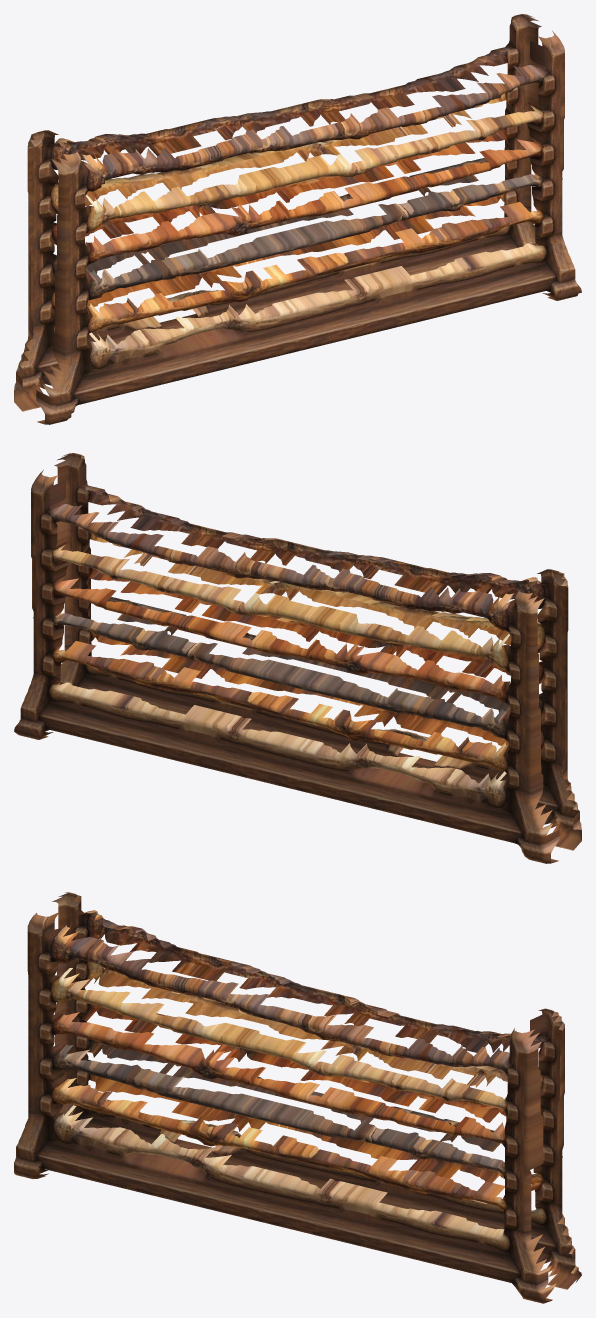
File: v4-general-store-scatter-walking-sticks.glb
The picture shows the model from 3 angles, top to bottom: view 1: azimuth 30°, elevation 25°; view 2: azimuth 150°, elevation 25°; view 3: azimuth 330°, elevation 25°; orthographic projection.
Parts seen in each view (by area): view 1: v4-general-store-scatter-walking-sticks; view 2: v4-general-store-scatter-walking-sticks; view 3: v4-general-store-scatter-walking-sticks.
Boxes of the visible parts, <box> form: v4-general-store-scatter-walking-sticks: <box>14,14,581,424</box>; v4-general-store-scatter-walking-sticks: <box>14,453,581,863</box>; v4-general-store-scatter-walking-sticks: <box>14,892,581,1303</box>.
Size of the model in its own units: 2.04 by 0.9744 by 0.24.
Materials: 1 (1 with a texture image).
